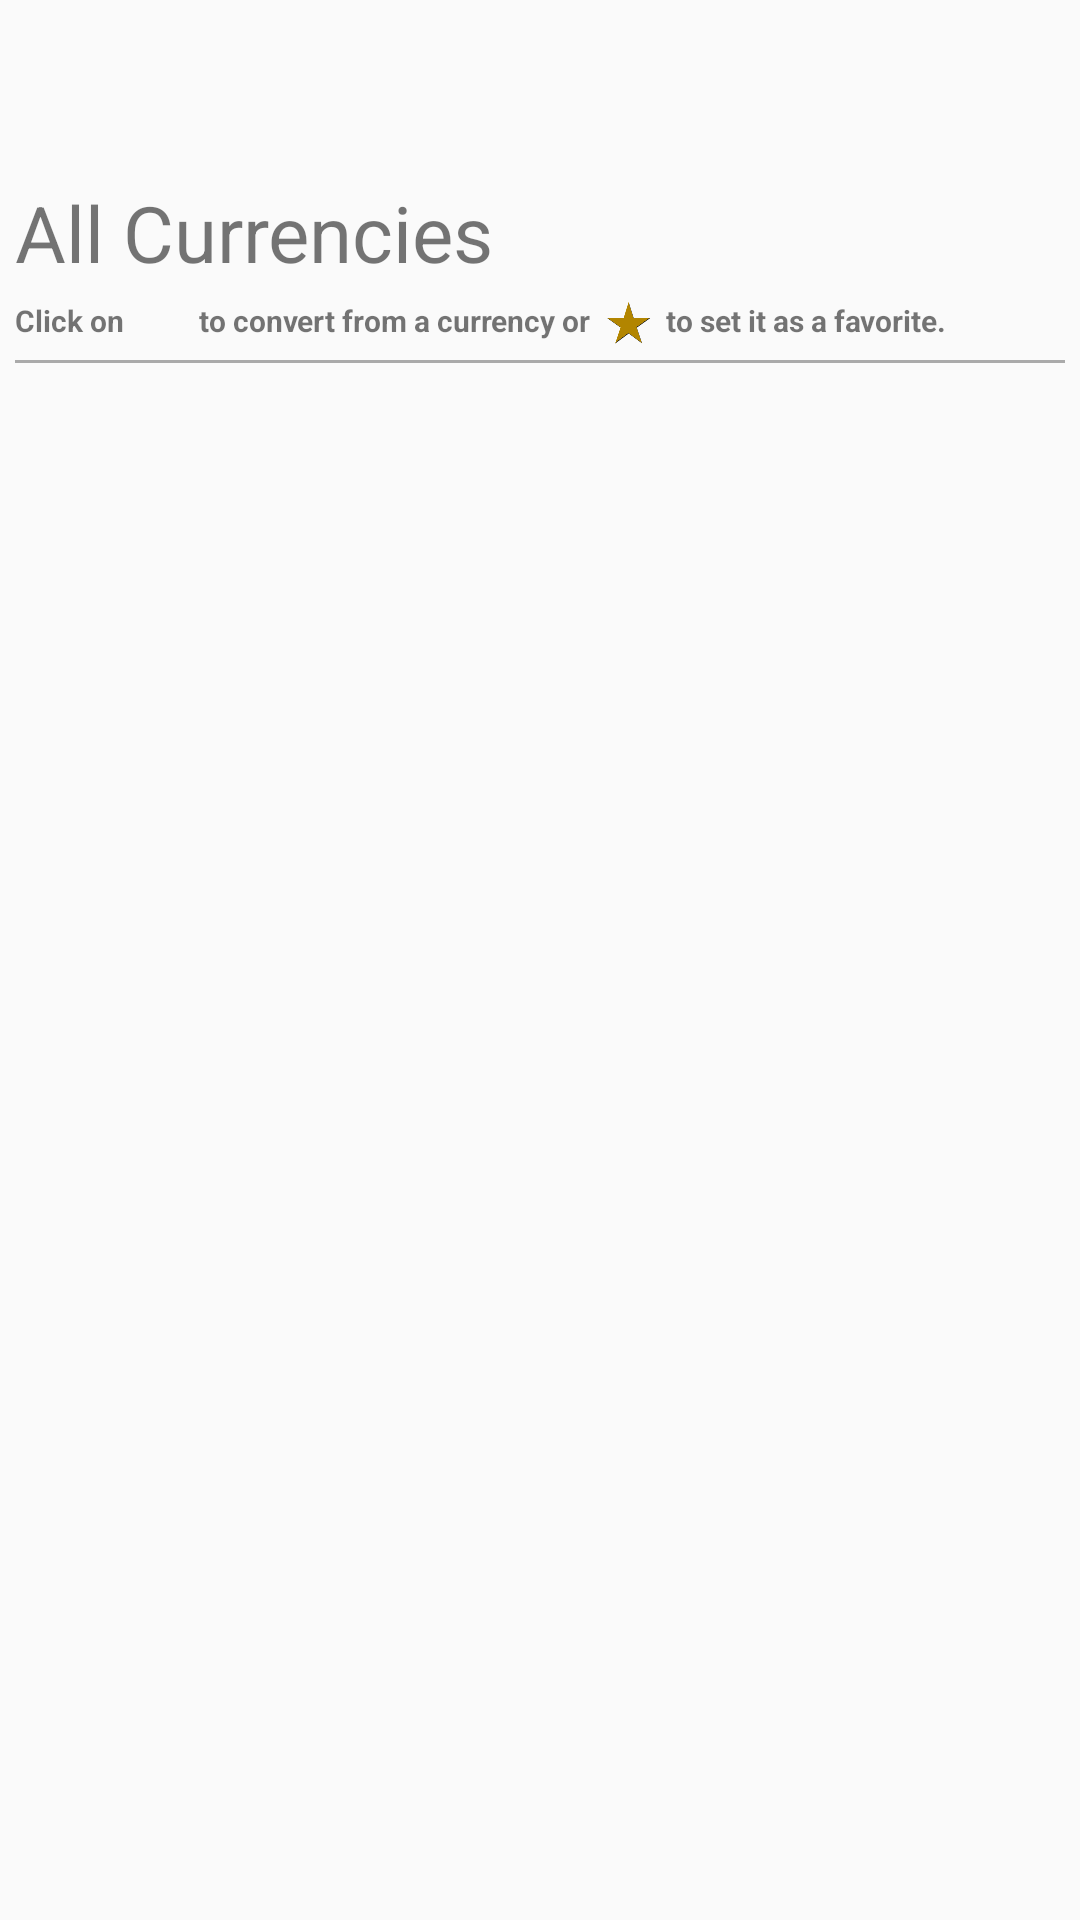

Named icons in this screenshot (1080×1920) and their bounding boxes, (x1, y1, x2, y2):
star: (607, 302, 650, 344)
